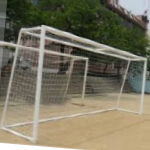goals: (2, 24, 148, 145)
